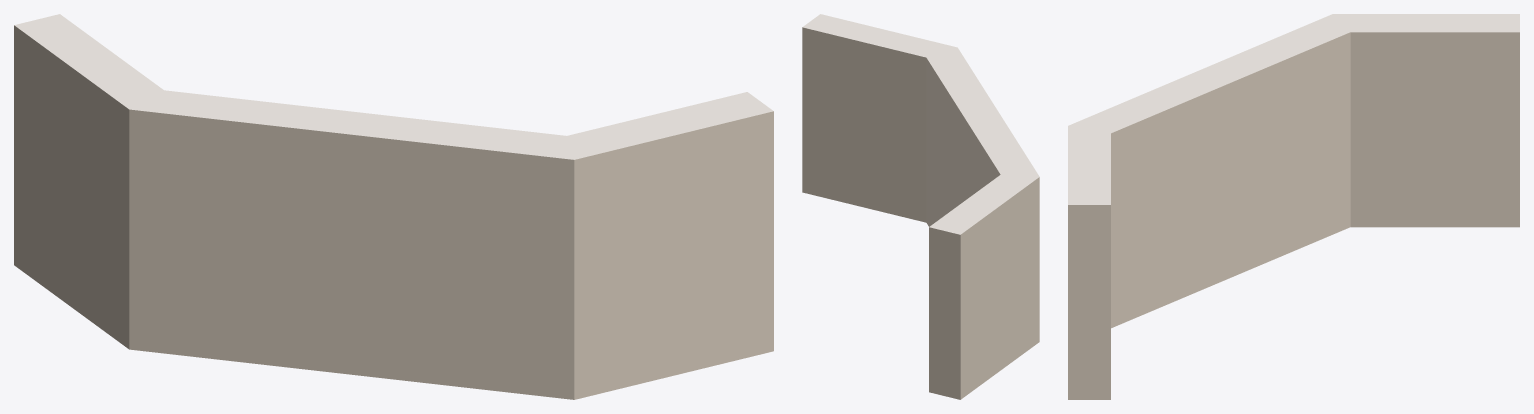
The model's file is temple_Wall_Curved_Large_Middle.glb.
The picture shows the model from 3 angles, left to right: view 1: azimuth 30°, elevation 25°; view 2: azimuth 150°, elevation 25°; view 3: azimuth 270°, elevation 25°; orthographic projection. The views are drawn at different scales.
Visible parts, largest first — view 1: object1; view 2: object1; view 3: object1.
Boxes of the visible parts, x1,y1,x2,y2 form: object1: [14, 14, 773, 399]; object1: [802, 14, 1039, 399]; object1: [1068, 14, 1519, 399].
Size of the model in its own units: 2.1 by 1 by 2.1.
